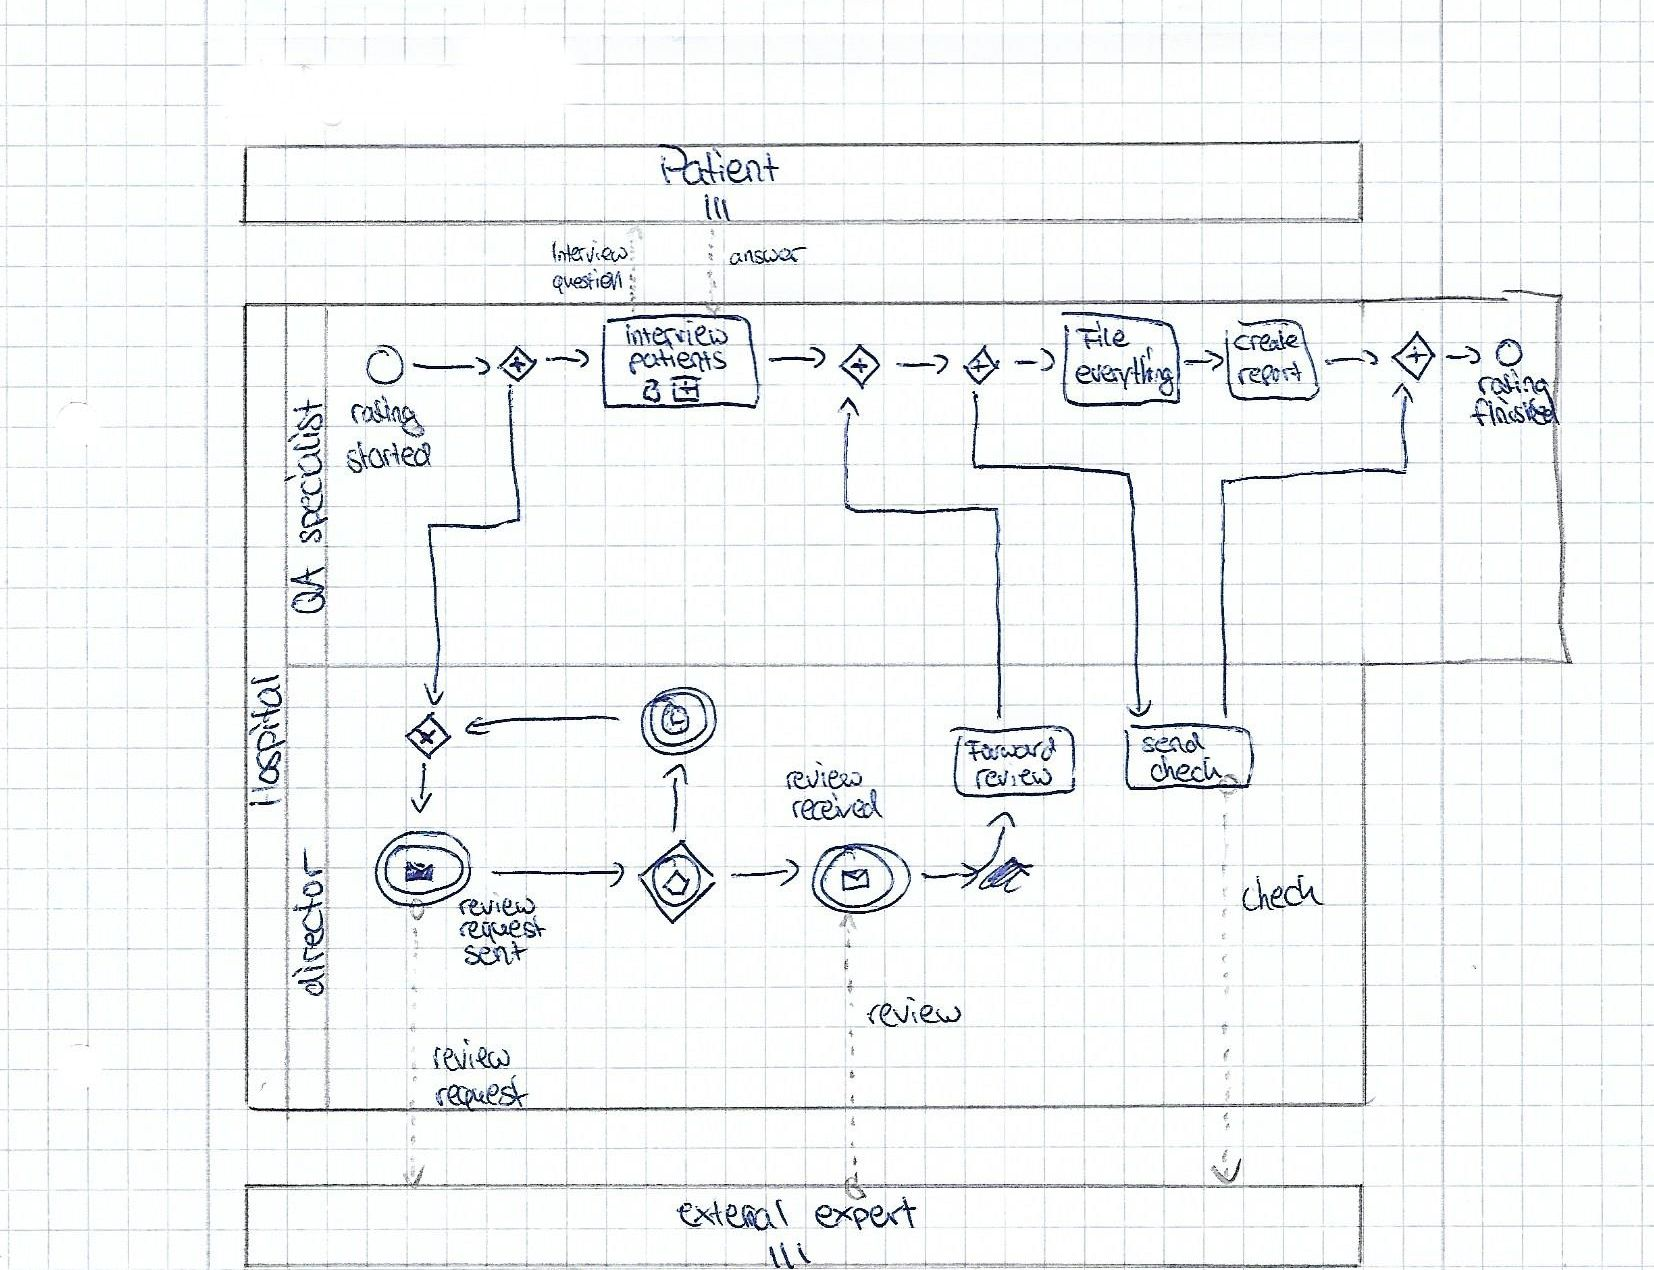File: (1071, 317, 1136, 355)
Forward: (959, 733, 1062, 766)
Hospital: (243, 669, 292, 812)
Interview: (545, 234, 633, 269)
Patient: (650, 138, 786, 193)
QA: (284, 560, 332, 620)
answer: (725, 242, 813, 270)
check: (1237, 869, 1330, 916), (1145, 750, 1227, 786)
create: (1228, 326, 1305, 355)
director: (286, 840, 332, 1001)
everything: (1070, 343, 1180, 401)
expert: (808, 1190, 924, 1238)
external: (672, 1193, 795, 1237)
finished: (1465, 393, 1565, 431)
interview: (620, 317, 733, 355)
patients: (623, 344, 732, 380)
question: (548, 265, 627, 300)
rating: (1472, 364, 1560, 421), (345, 391, 430, 443)
received: (788, 785, 888, 826)
report: (1234, 356, 1307, 390)
request: (430, 1071, 533, 1116), (454, 911, 552, 949)
review: (861, 992, 967, 1032), (428, 1034, 515, 1076), (781, 757, 867, 794), (971, 761, 1057, 794), (454, 889, 540, 920)
send: (1137, 728, 1211, 757)
sent: (459, 937, 534, 971)
specialist: (279, 394, 335, 549)
started: (341, 436, 436, 478)
